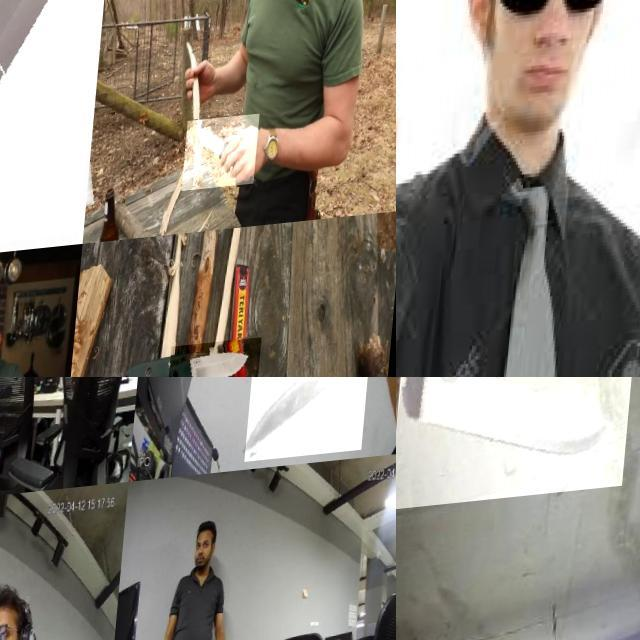-: (0, 0, 131, 261), (396, 377, 640, 515), (250, 377, 377, 471), (187, 124, 264, 200), (176, 348, 269, 377), (0, 380, 13, 416)
gun-knife-thesis - v11 Yolov5 augmented: (396, 0, 543, 289)
